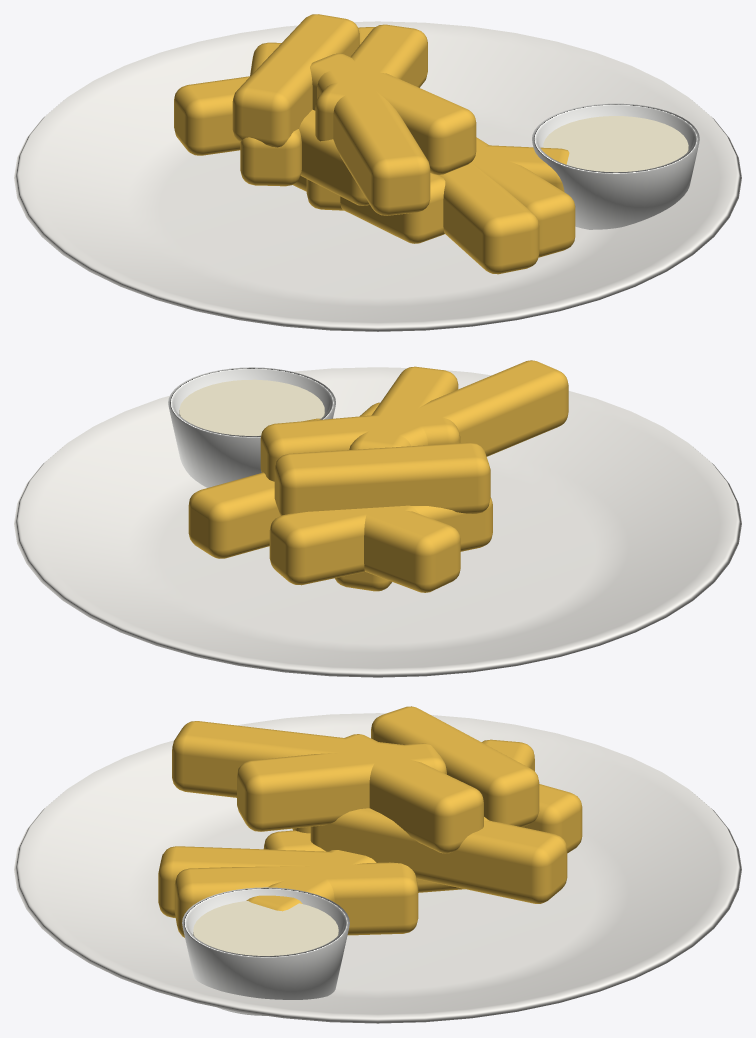
File: mandioca.glb
The picture shows the model from 3 angles, top to bottom: view 1: azimuth 30°, elevation 25°; view 2: azimuth 150°, elevation 25°; view 3: azimuth 270°, elevation 25°; orthographic projection.
Parts seen in each view (by area): view 1: mandioca; view 2: mandioca; view 3: mandioca.
Boxes of the visible parts, left/top/right/bottom form: mandioca: left=14, top=14, right=741, bottom=331; mandioca: left=14, top=360, right=741, bottom=677; mandioca: left=14, top=706, right=741, bottom=1023.
Size of the model in its own units: 0.26 by 0.062 by 0.26.
